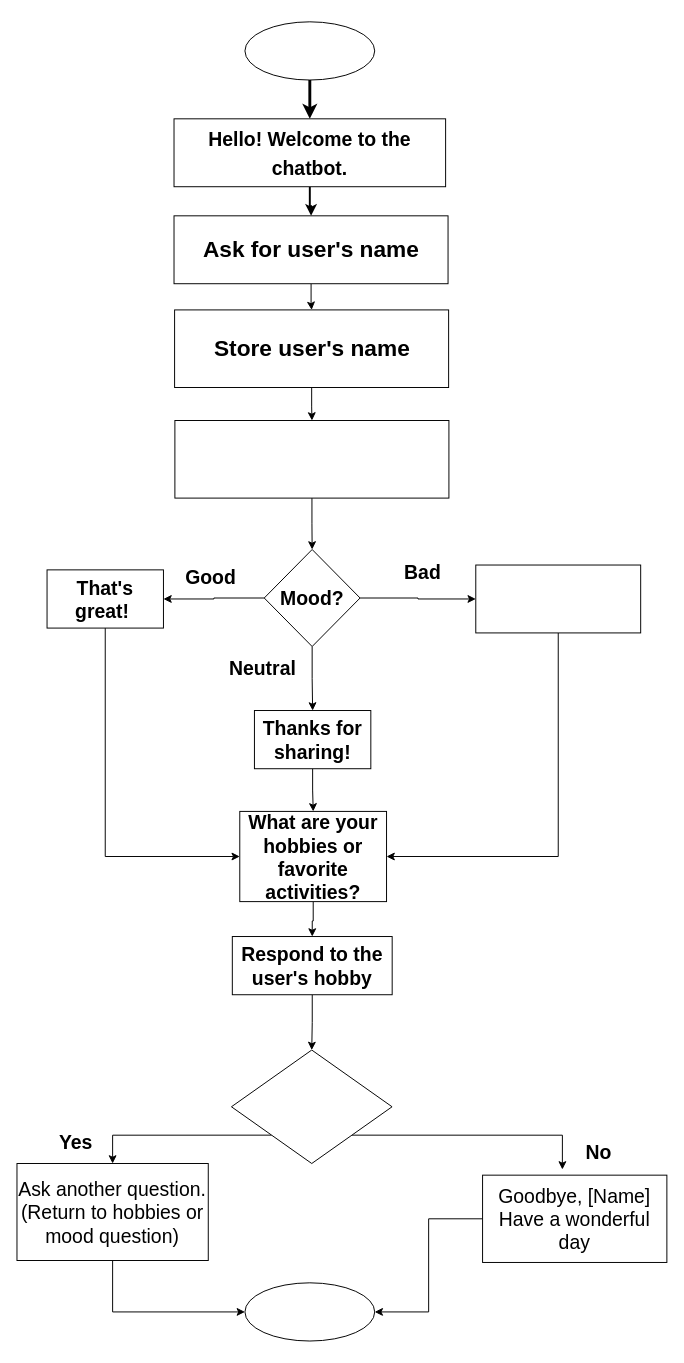
This 684x1363 diagram has some shape labels left out. The centre of each missing label's shape, as x and y in pixels:
Continue chatting?: pixel 311 1106
End: pixel 309 1311
How are you?: pixel 311 459
Sorry to hear that. I hope you feel better!: pixel 558 598
Start: pixel 309 50
